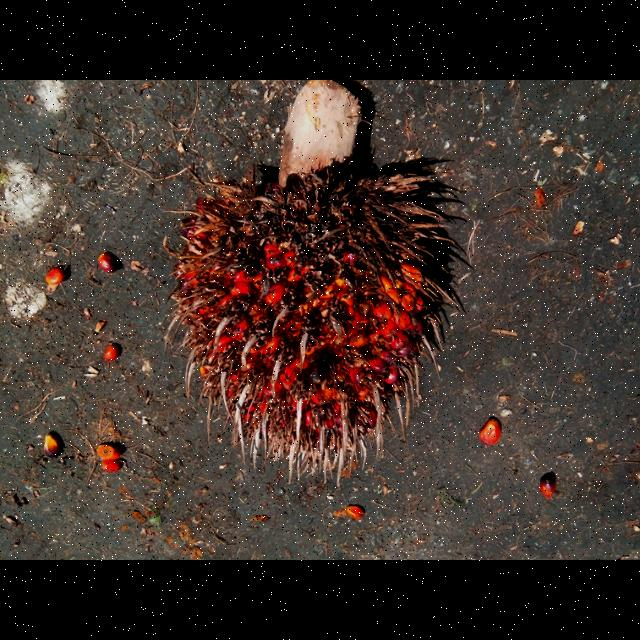Ripe: (174, 155, 462, 464)
